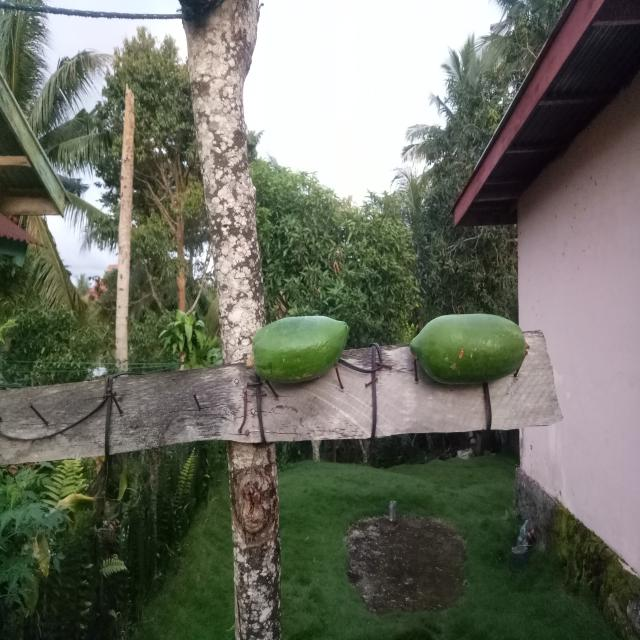Pepaya unrippen: (405, 315, 537, 392), (247, 298, 350, 388)
